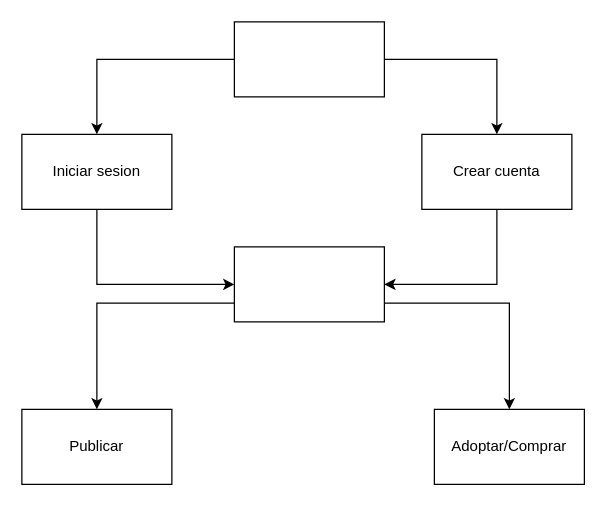
Some shapes in this 606 by 506 pixel diagram are drawn without their labels. The box of each missing label's shape, as (x1, y1, x2, y2) in pixels:
Index: (233, 21, 384, 97)
Inicio: (233, 246, 384, 322)
